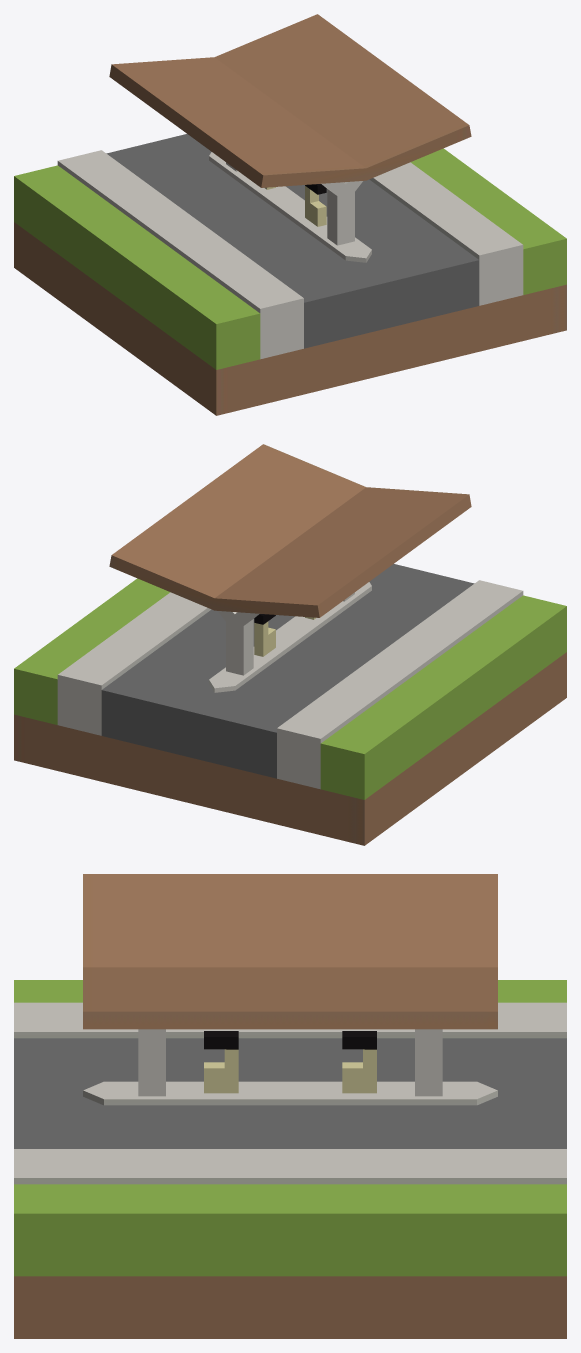
The model's file is building-gasstation.obj.
3 renders of one model, top to bottom at view 1: azimuth 30°, elevation 25°; view 2: azimuth 150°, elevation 25°; view 3: azimuth 270°, elevation 25°, orthographic. The views are drawn at different scales.
Visible parts, largest first — view 1: gas-station_Cube.047; view 2: gas-station_Cube.047; view 3: gas-station_Cube.047.
Boxes of the visible parts, x1=… form: gas-station_Cube.047: x1=14, y1=14, x2=566, y2=415; gas-station_Cube.047: x1=14, y1=444, x2=566, y2=845; gas-station_Cube.047: x1=14, y1=874, x2=566, y2=1338.
Size of the model in its own units: 8 by 4.46 by 8.
